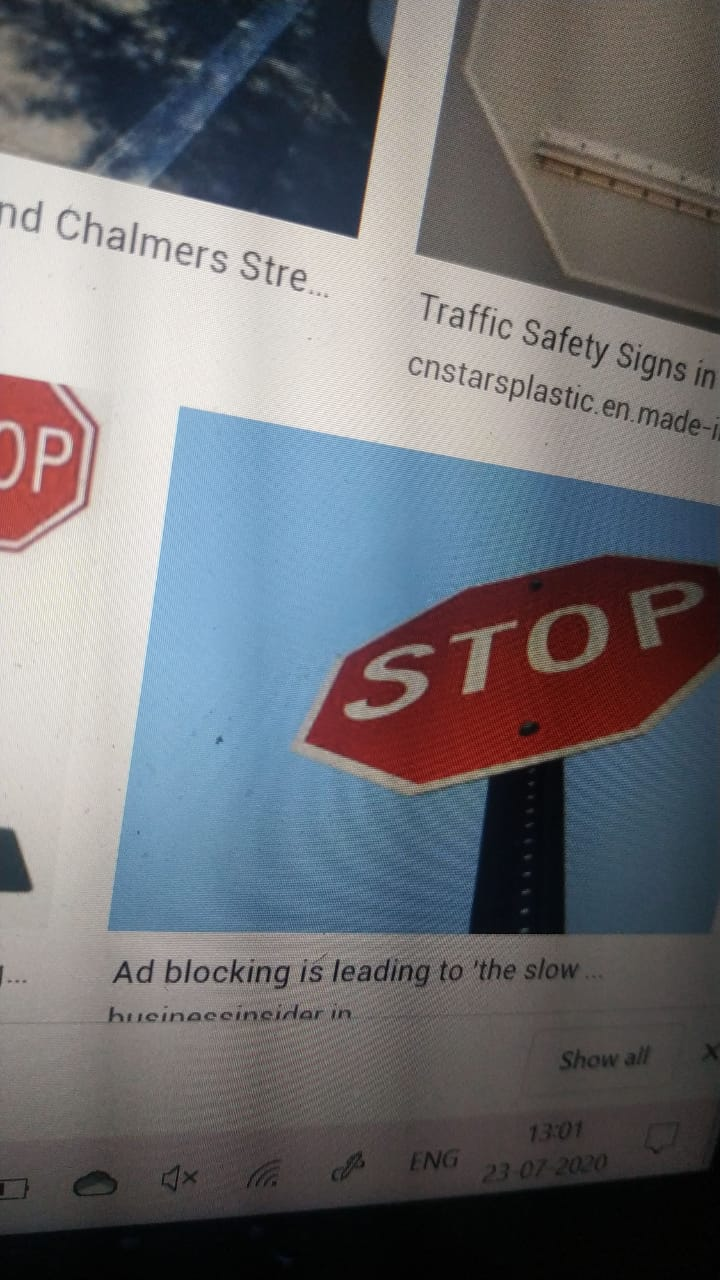STOP: (217, 427, 720, 934), (1, 360, 159, 575)
